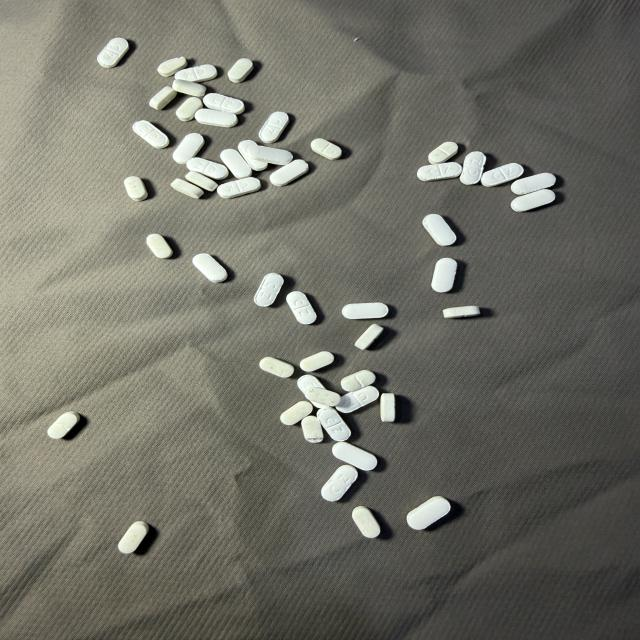pill: (407, 497, 450, 529), (322, 465, 357, 501), (333, 442, 377, 470), (336, 386, 379, 412), (318, 407, 350, 441), (423, 214, 456, 246), (270, 159, 308, 186), (118, 521, 149, 553), (286, 291, 316, 324), (192, 254, 227, 282), (133, 121, 169, 148), (511, 173, 555, 195), (511, 189, 555, 211), (481, 163, 523, 186), (173, 133, 204, 164), (97, 38, 129, 68), (254, 273, 283, 306), (259, 112, 289, 143), (220, 149, 252, 178), (217, 177, 261, 198), (352, 506, 380, 538), (238, 140, 267, 170), (48, 412, 80, 439), (187, 158, 228, 179), (249, 145, 292, 165), (280, 400, 313, 426), (432, 258, 457, 292), (460, 152, 486, 184), (417, 163, 462, 181), (204, 94, 244, 114), (195, 109, 237, 127), (175, 64, 217, 82), (342, 303, 388, 319), (341, 370, 375, 391), (355, 324, 383, 349), (260, 357, 294, 377), (300, 351, 334, 371), (305, 387, 340, 406), (428, 142, 458, 164), (149, 87, 177, 110), (185, 171, 217, 191), (176, 97, 202, 121), (171, 179, 203, 198), (124, 176, 148, 201), (311, 139, 341, 159), (147, 234, 172, 258), (228, 59, 253, 83), (158, 57, 187, 77), (172, 80, 206, 97), (302, 416, 323, 442), (298, 375, 325, 394), (443, 306, 480, 317), (381, 393, 395, 422)
